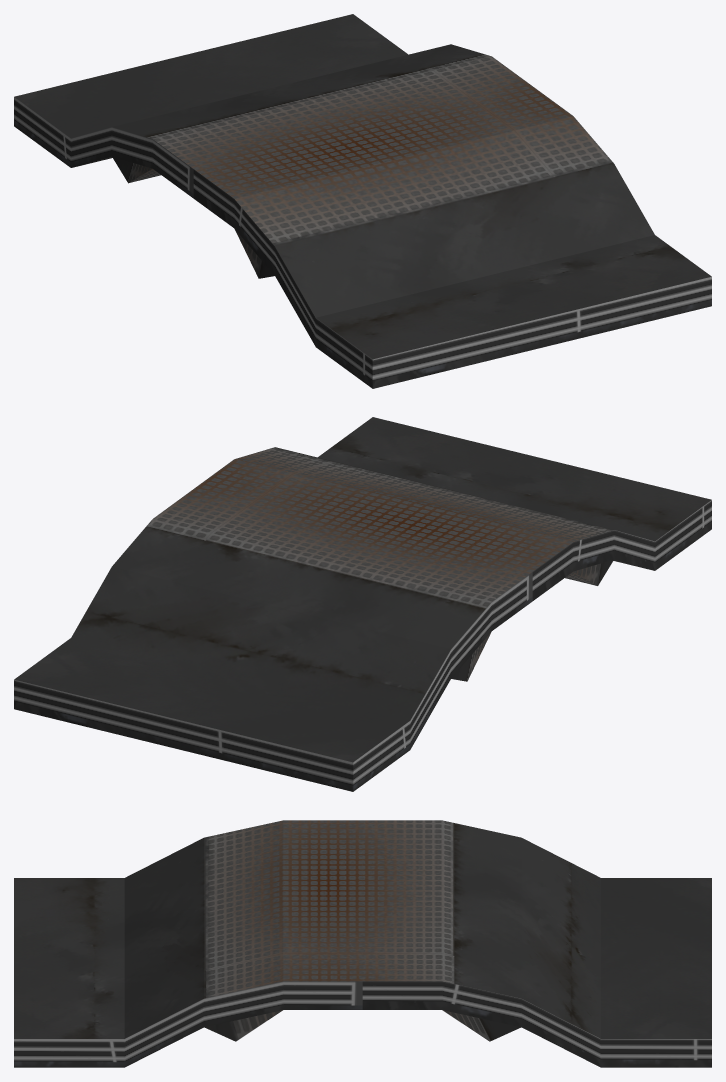
Rendered from SM_Roof_B_Short.fbx.
3 views of the same model, one above another, from view 1: azimuth 30°, elevation 25°; view 2: azimuth 150°, elevation 25°; view 3: azimuth 270°, elevation 25° (orthographic). The views are drawn at different scales.
Visible parts, largest first — view 1: Roof_B_Short; view 2: Roof_B_Short; view 3: Roof_B_Short.
Part boxes in pixels (x1=…): Roof_B_Short: x1=14, y1=14, x2=711, y2=388; Roof_B_Short: x1=14, y1=417, x2=711, y2=791; Roof_B_Short: x1=14, y1=820, x2=711, y2=1067.
Size of the model in its own units: 1.2 by 0.3 by 2.2.
